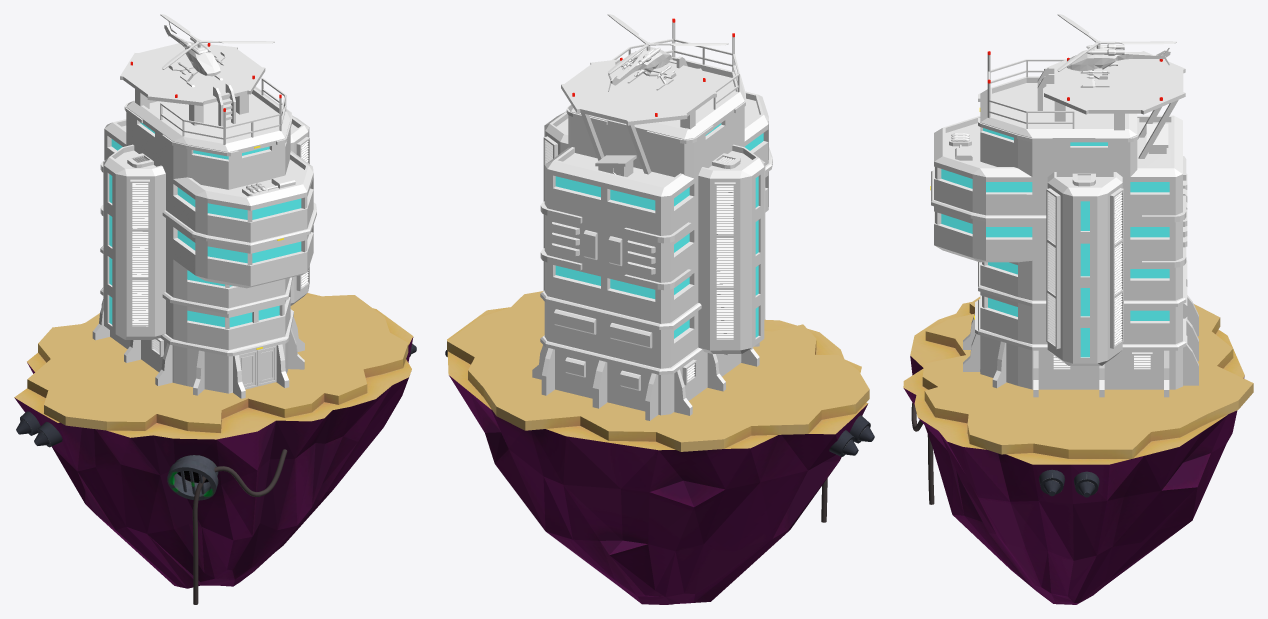
File: cyberpunk-bar-3.glb
3 views of the same model, side by side, from view 1: azimuth 30°, elevation 25°; view 2: azimuth 150°, elevation 25°; view 3: azimuth 270°, elevation 25° (orthographic). The views are drawn at different scales.
Visible parts, largest first — view 1: Cube.060, Object_20, Object_21, Cube.038, Object_10; view 2: Cube.060, Object_20, Cube.038, Object_21; view 3: Cube.060, Object_20, Cube.038, Object_21, Object_10.
Boxes of the visible parts, <box> form: Cube.060: <box>92,42,316,398</box>; Object_20: <box>14,293,413,588</box>; Object_21: <box>16,343,416,500</box>; Cube.038: <box>160,14,274,87</box>; Object_10: <box>192,449,287,604</box>; Cube.060: <box>532,18,772,420</box>; Object_20: <box>447,291,869,604</box>; Cube.038: <box>607,14,728,91</box>; Object_21: <box>445,350,874,456</box>; Cube.060: <box>930,51,1198,397</box>; Object_20: <box>903,296,1253,604</box>; Cube.038: <box>1057,14,1176,87</box>; Object_21: <box>1039,469,1099,497</box>; Object_10: <box>911,403,934,504</box>.
Bounding box in the file's own units: 1.64 × 2.18 × 1.25.
6 materials, 2 textured.
